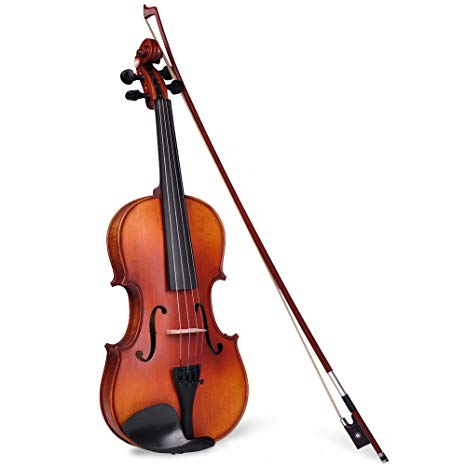Fiddle: (105, 18, 307, 456)
